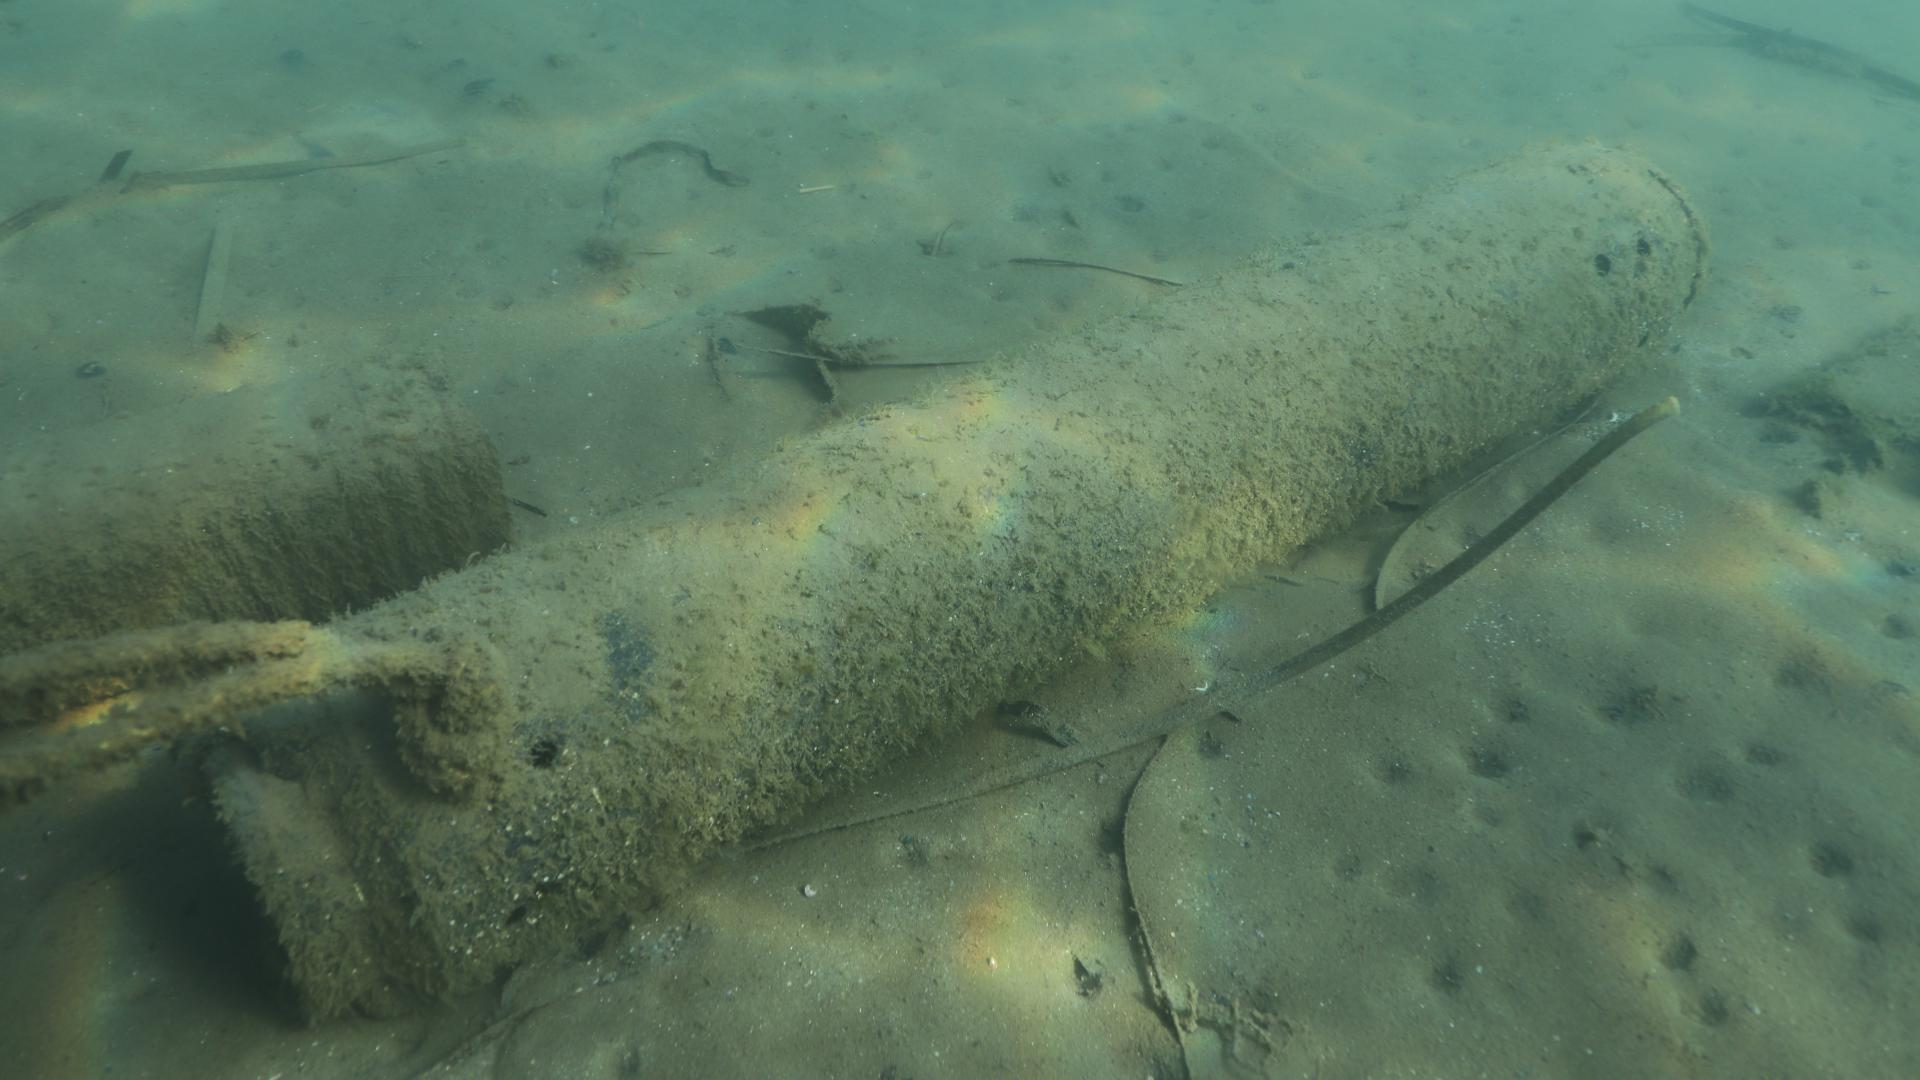bundle of ropes: (0, 616, 513, 804)
eel fish trap: (186, 140, 1706, 1023)
